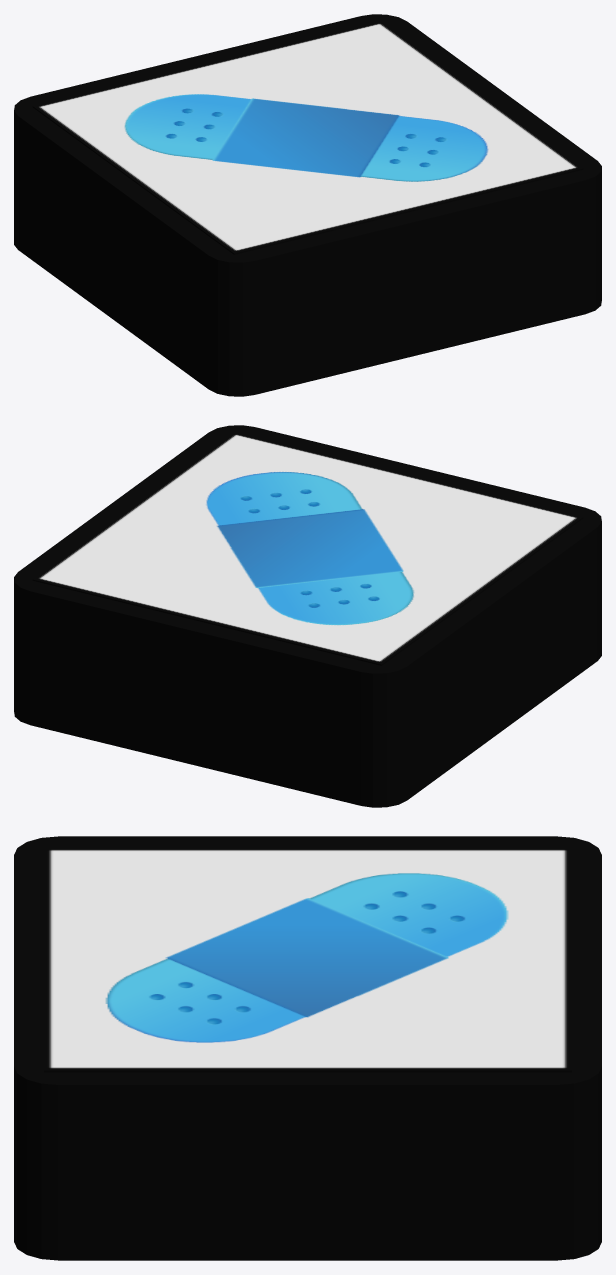
3 views of the same model, one above another, from view 1: azimuth 30°, elevation 25°; view 2: azimuth 150°, elevation 25°; view 3: azimuth 270°, elevation 25° (orthographic). The views are drawn at different scales.
Parts seen in each view (by area): view 1: base_link.001; view 2: base_link.001; view 3: base_link.001.
Boxes of the visible parts, left/top/right/bottom form: base_link.001: left=14, top=14, right=601, bottom=396; base_link.001: left=14, top=425, right=601, bottom=807; base_link.001: left=14, top=836, right=601, bottom=1260.
Size of the model in its own units: 0.0848 by 0.0848 by 0.0282.
1 material, 1 textured.
